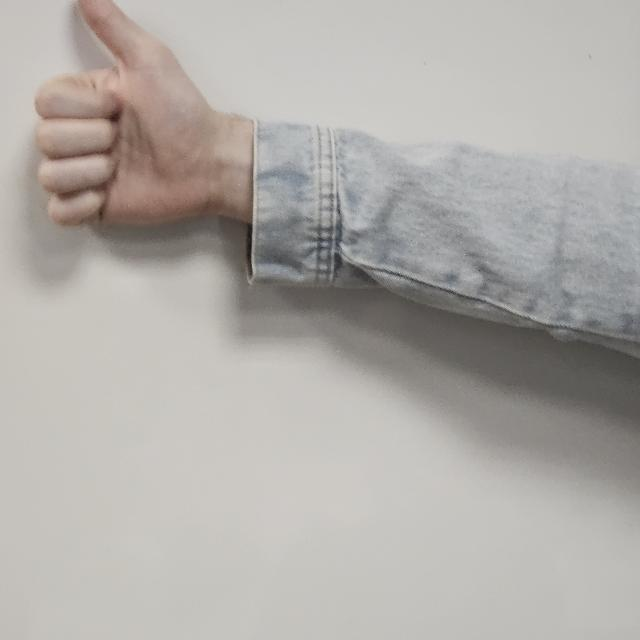Start: (34, 0, 236, 234)
